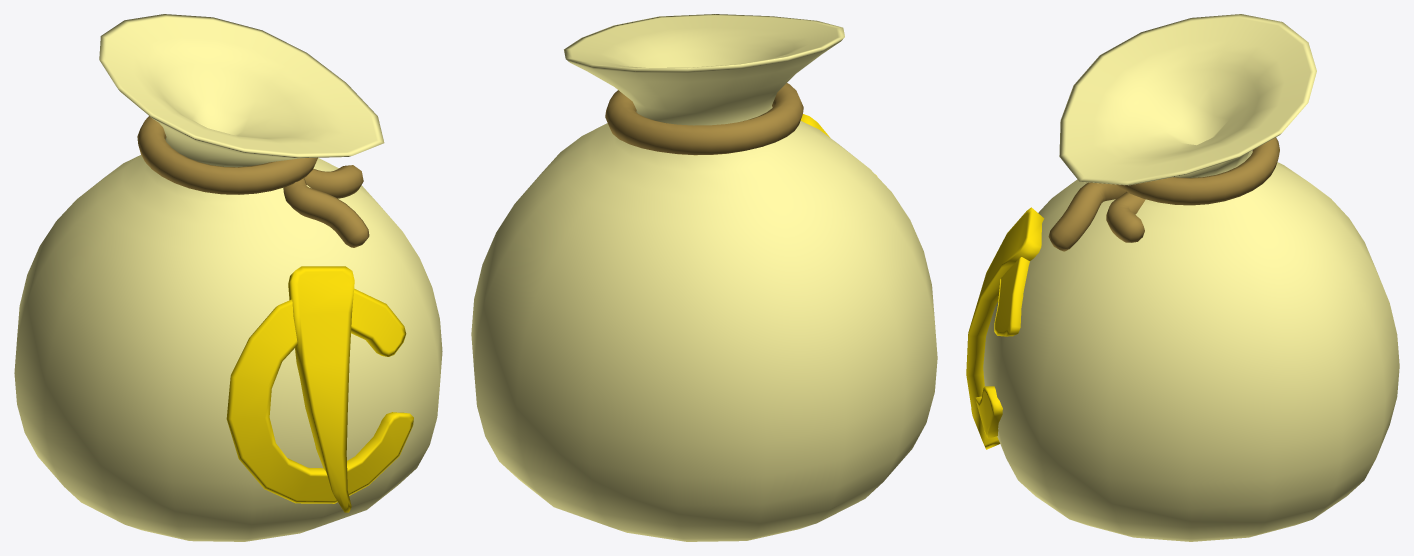
The model's file is MoneyBag.glb.
3 views of the same model, side by side, from view 1: azimuth 30°, elevation 25°; view 2: azimuth 150°, elevation 25°; view 3: azimuth 270°, elevation 25° (orthographic). The views are drawn at different scales.
Parts seen in each view (by area): view 1: MoneyBag; view 2: MoneyBag; view 3: MoneyBag.
Boxes of the visible parts, x1=… form: MoneyBag: x1=14, y1=14, x2=442, y2=541; MoneyBag: x1=471, y1=14, x2=937, y2=541; MoneyBag: x1=966, y1=14, x2=1399, y2=541.
Bounding box in the file's own units: 1.08 × 1.26 × 1.13.
